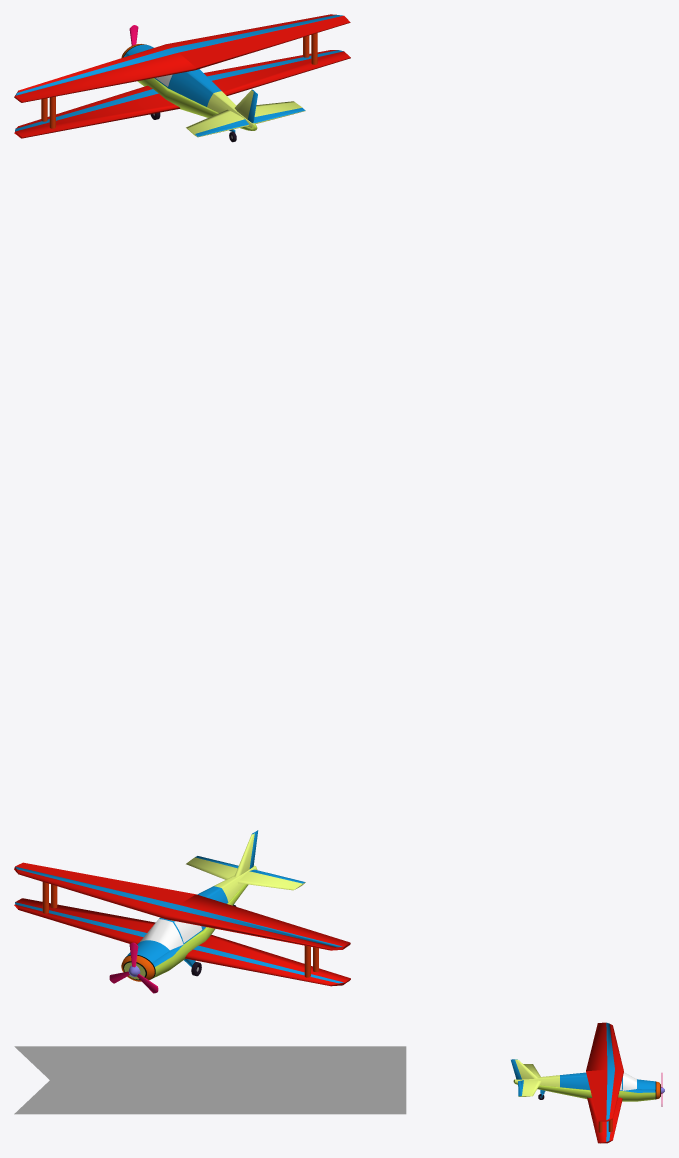
The picture shows the model from 3 angles, top to bottom: view 1: azimuth 30°, elevation 25°; view 2: azimuth 150°, elevation 25°; view 3: azimuth 270°, elevation 25°; orthographic projection. The views are drawn at different scales.
Visible parts, largest first — view 1: plane; view 2: plane, windows; view 3: flag, plane, windows.
Boxes of the visible parts, box(x1,y1,x2,y2) form: plane: box(14, 14, 350, 142); plane: box(14, 830, 350, 986); windows: box(139, 919, 202, 950); flag: box(14, 1046, 406, 1114); plane: box(511, 1022, 660, 1143); windows: box(620, 1072, 636, 1090).
Bounding box in the file's own units: 14.33 × 4.63 × 40.19.
